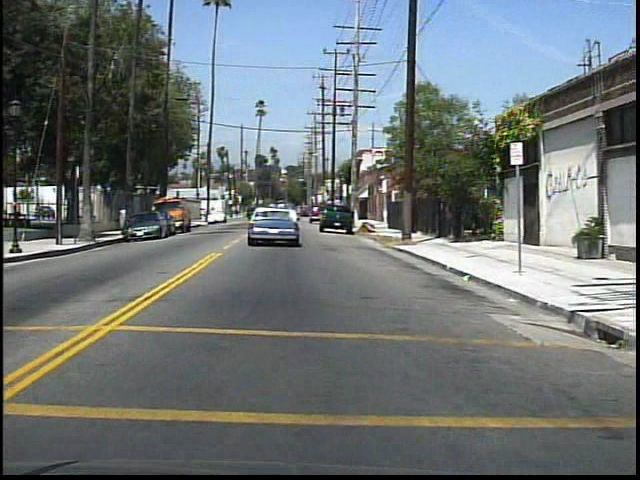person: (31, 199, 47, 224), (81, 197, 95, 225), (119, 202, 128, 231)
